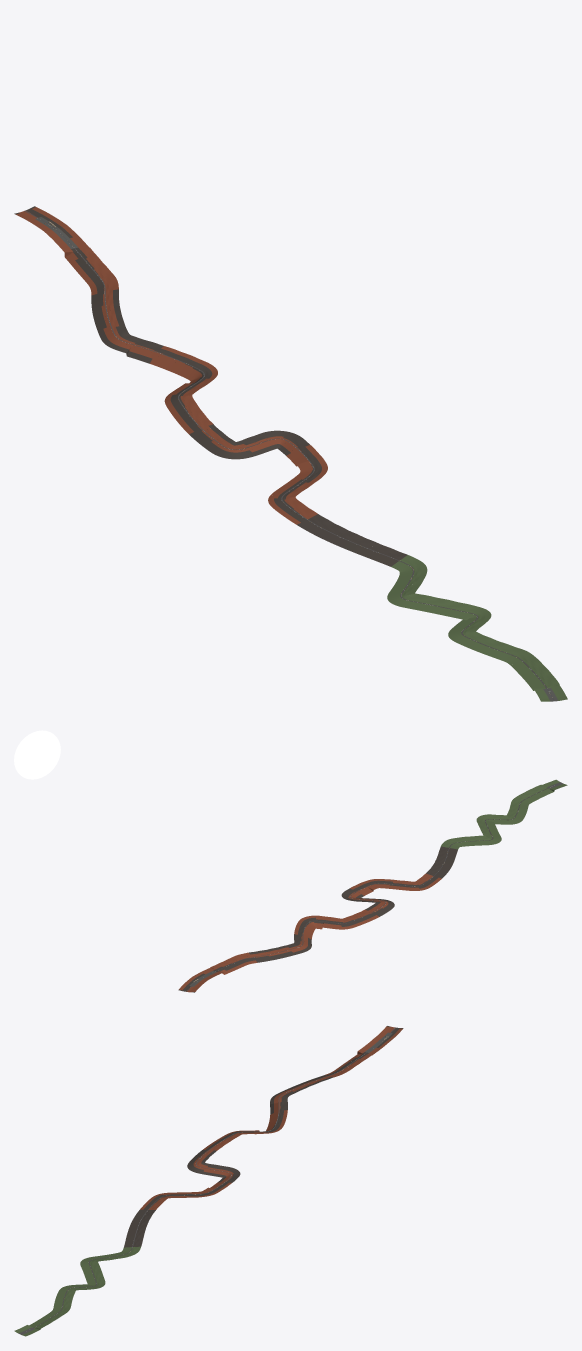
Rendered from fuji.glb.
3 renders of one model, top to bottom at view 1: azimuth 30°, elevation 25°; view 2: azimuth 150°, elevation 25°; view 3: azimuth 330°, elevation 25°, orthographic. The views are drawn at different scales.
Parts seen in each view (by area): view 1: no part large enough to name; view 2: Sun; view 3: no part large enough to name.
Boxes of the visible parts, x1=… form: Sun: x1=14, y1=730, x2=60, y2=779.
Bounding box in the file's own units: 5463 × 3190 × 11414.
